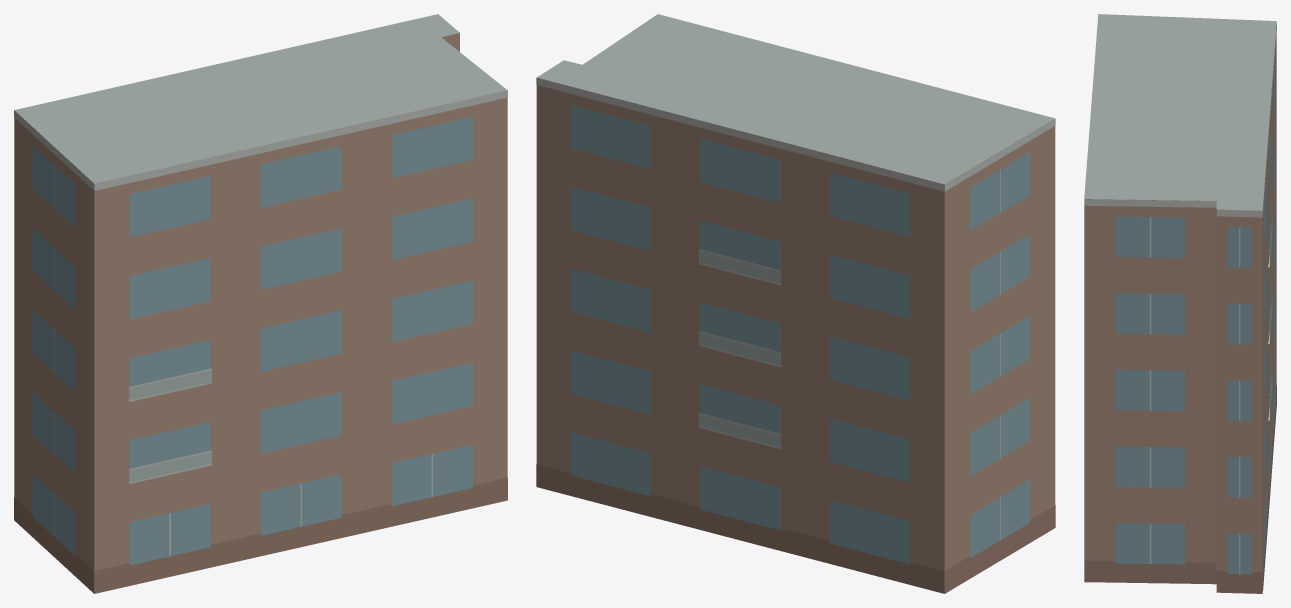
Rendered from survey-upis-32540105.glb.
3 views of the same model, side by side, from view 1: azimuth 30°, elevation 25°; view 2: azimuth 150°, elevation 25°; view 3: azimuth 270°, elevation 25° (orthographic). The views are drawn at different scales.
Parts seen in each view (by area): view 1: survey-upis-32540105.tmp; view 2: survey-upis-32540105.tmp; view 3: survey-upis-32540105.tmp.
Boxes of the visible parts, box(x1,y1,x2,y2) form: survey-upis-32540105.tmp: box(14, 14, 507, 593); survey-upis-32540105.tmp: box(536, 14, 1055, 593); survey-upis-32540105.tmp: box(1084, 14, 1276, 593).
Bounding box in the file's own units: 15.22 × 13.8 × 6.3.
